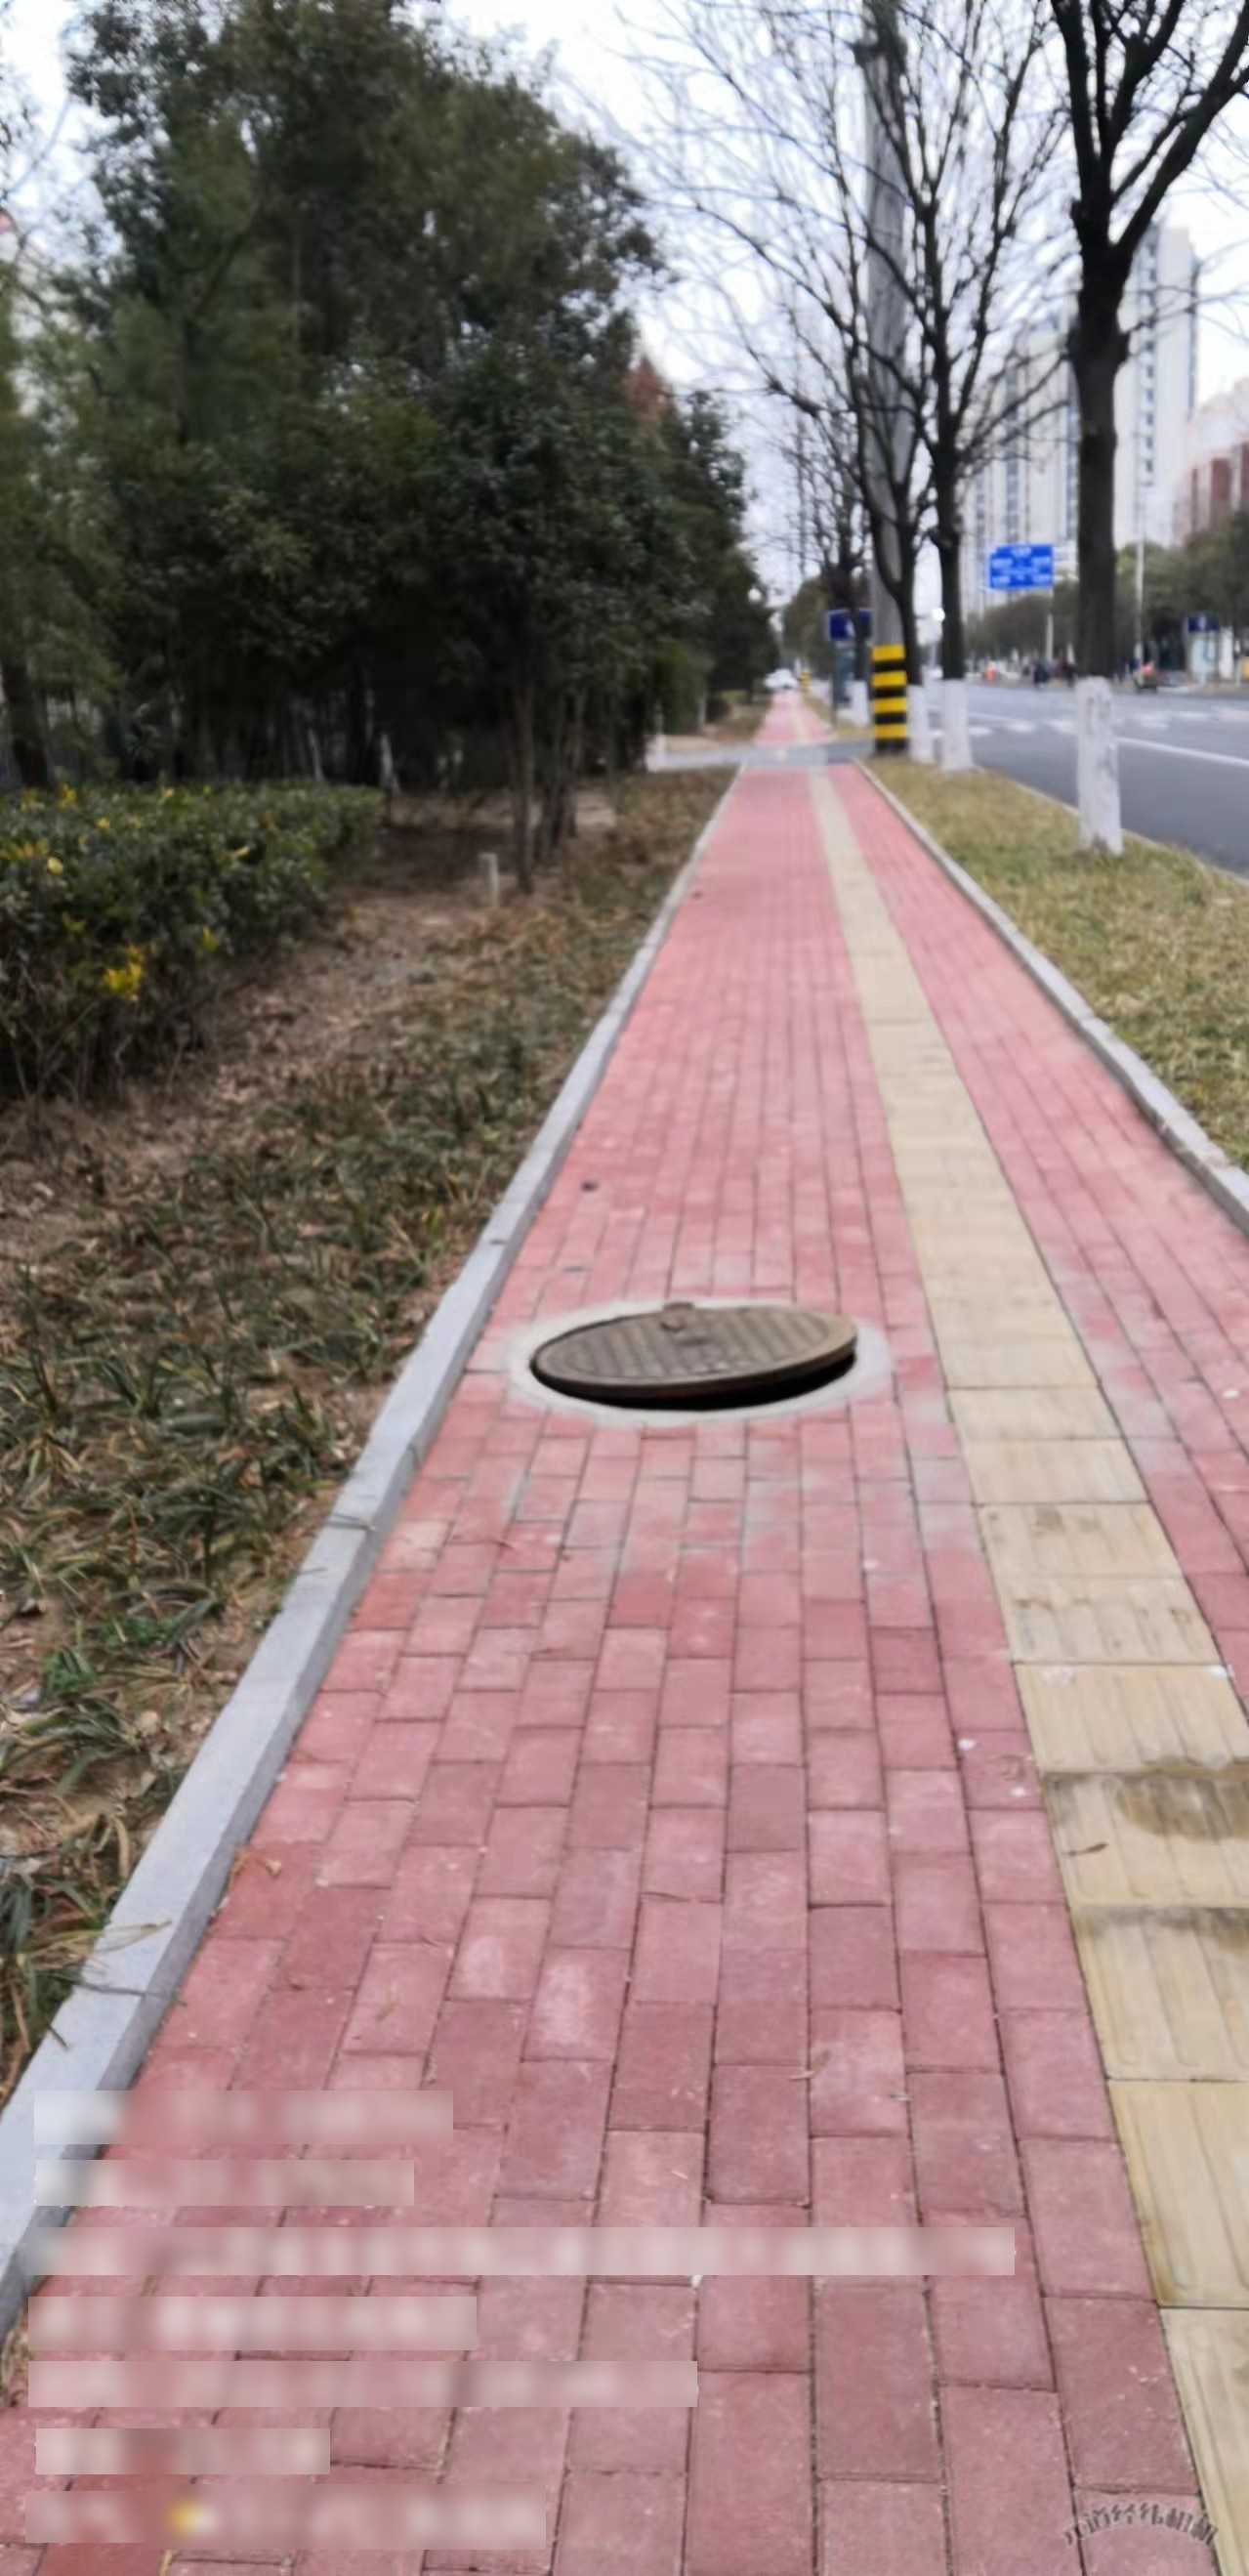uncovered: (517, 1298, 875, 1421)
